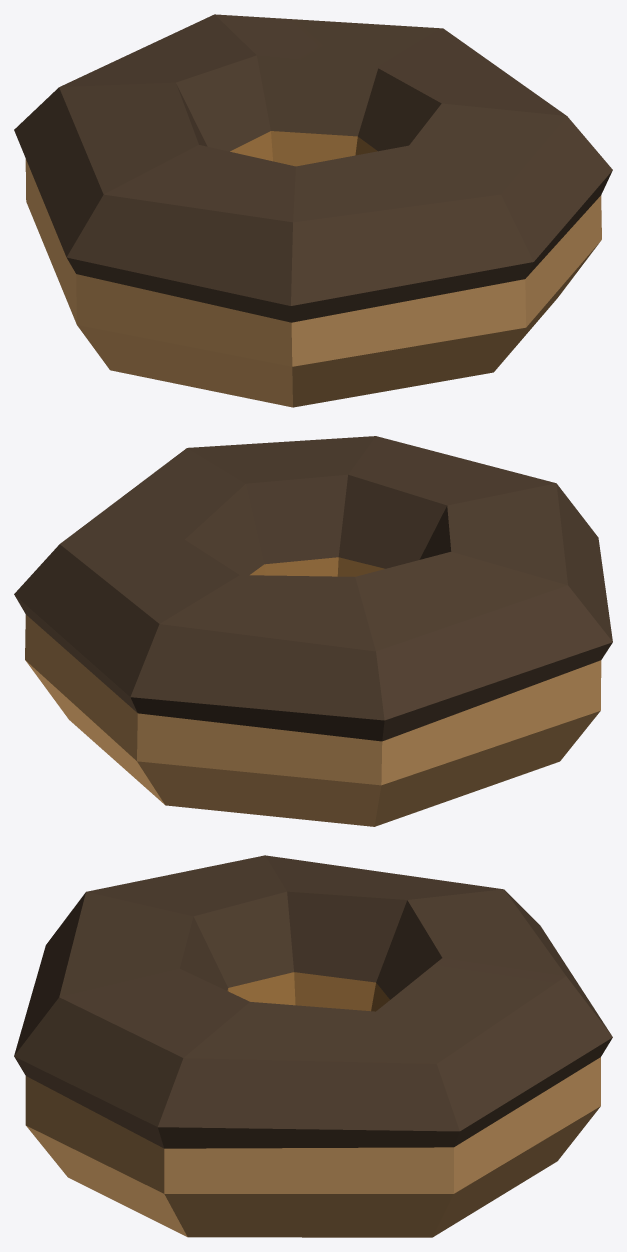
Rendered from food_donut.fbx.
The picture shows the model from 3 angles, top to bottom: view 1: azimuth 30°, elevation 25°; view 2: azimuth 150°, elevation 25°; view 3: azimuth 270°, elevation 25°; orthographic projection.
Parts seen in each view (by area): view 1: food_donut; view 2: food_donut; view 3: food_donut.
Part boxes in pixels (x1,y1,x2,y2): food_donut: [14, 14, 612, 407]; food_donut: [14, 436, 612, 826]; food_donut: [14, 855, 612, 1237].
Size of the model in its own units: 194 by 78.7 by 200.
